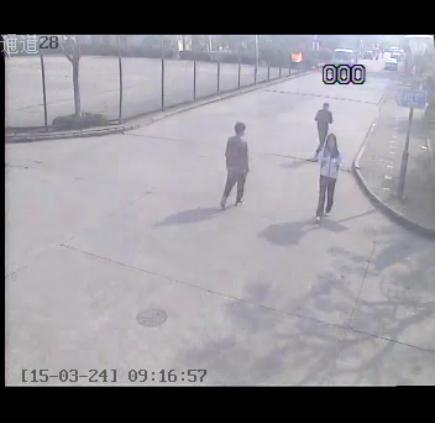person: (307, 124, 357, 221), (214, 109, 255, 221), (300, 92, 333, 163)
